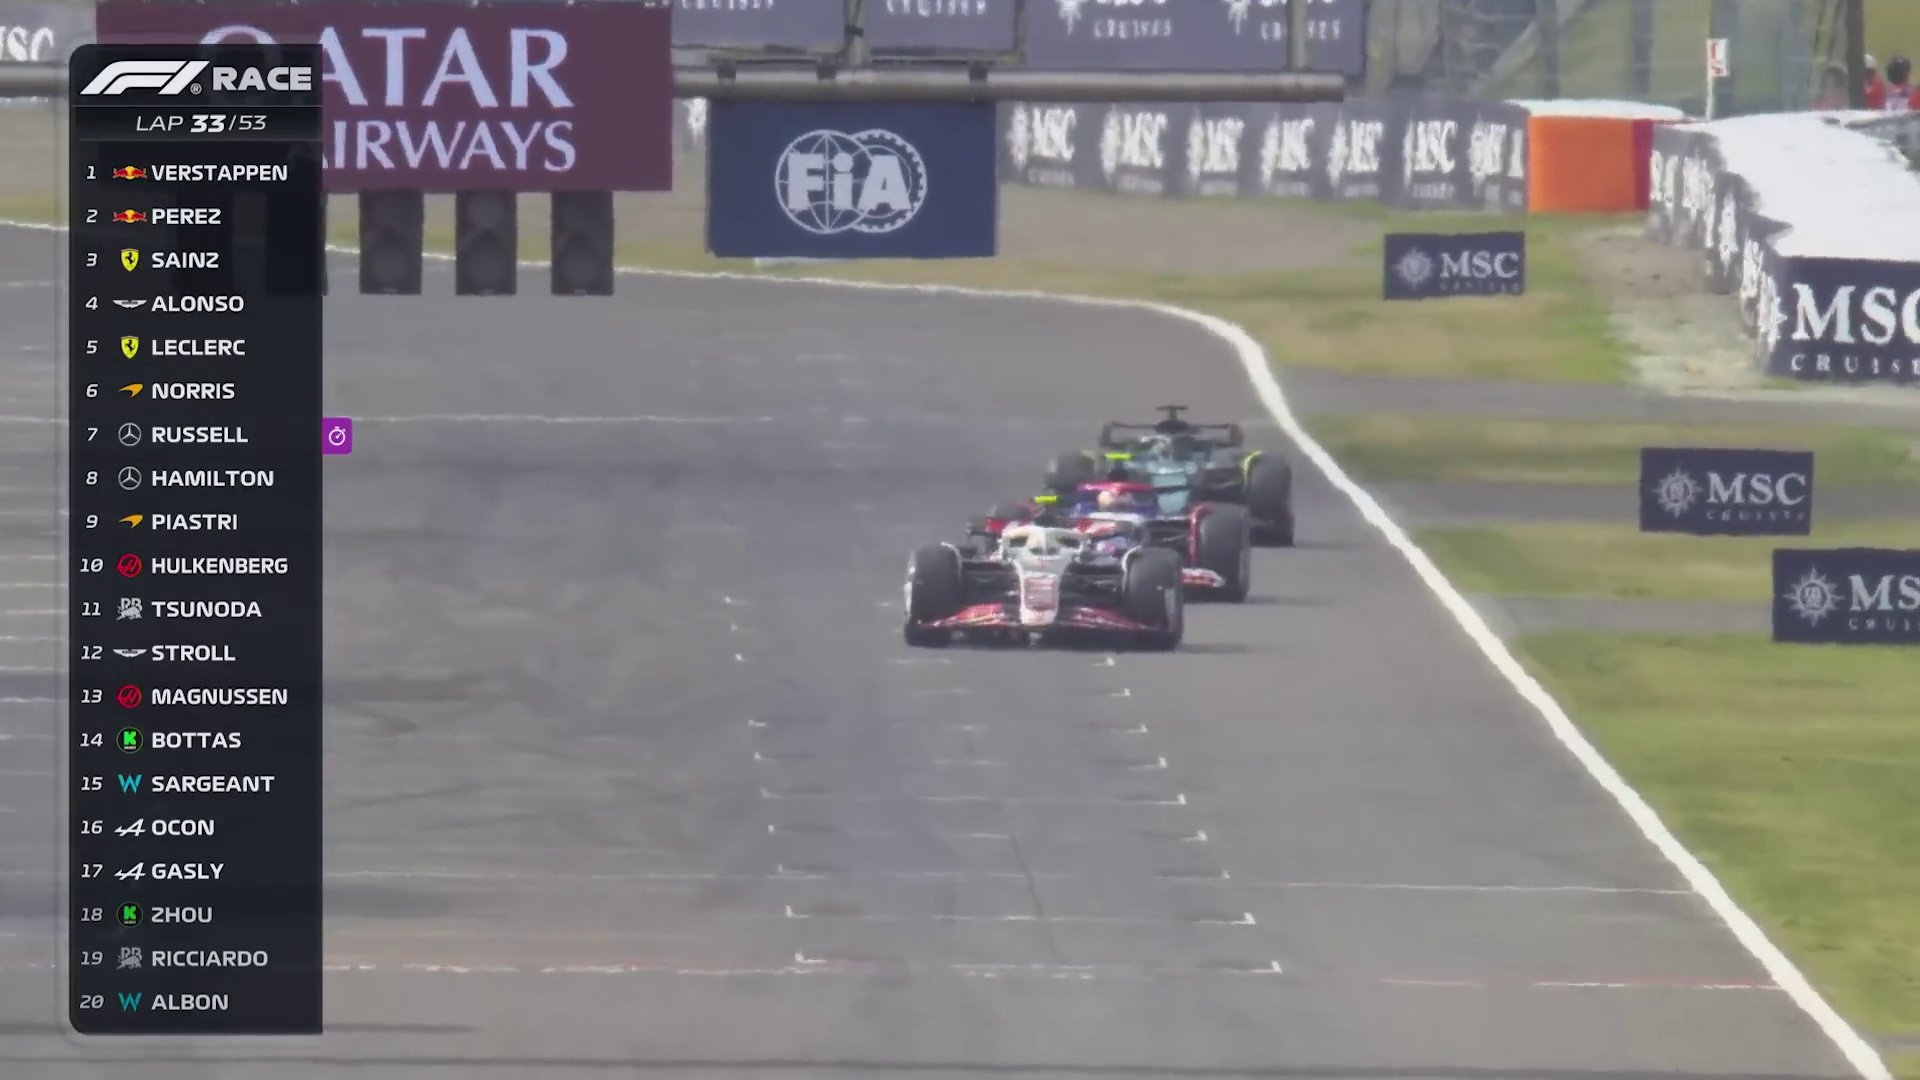AstonMartin: (1056, 421, 1287, 527)
Haas: (910, 522, 1183, 649)
VisaRB: (1006, 481, 1255, 596)
